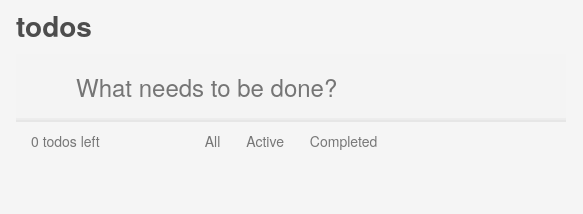
Test: Input form › Form submission › Shows an error message on a failed submission
The width and height of the screenshot is (583, 214).
Type "test" into the field with class "new-todo".
click(291, 87); type("test")  # box [16, 54, 566, 120]
Then press Enter
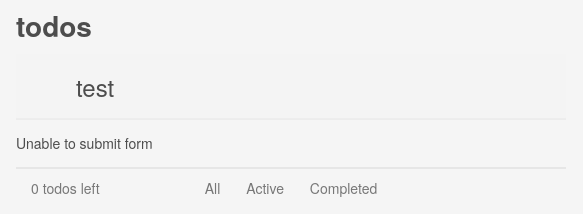
Now the text "Unable to submit form" is shown, box [16, 133, 153, 153]
